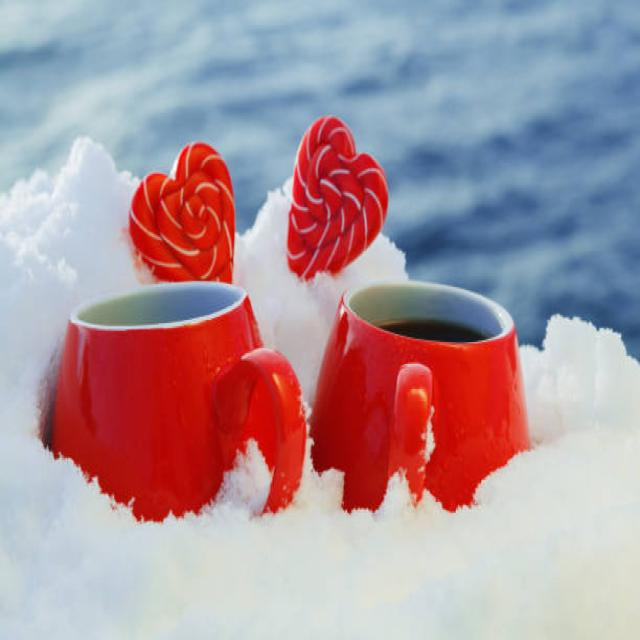Red_cup: (52, 283, 306, 520), (310, 281, 529, 509)
